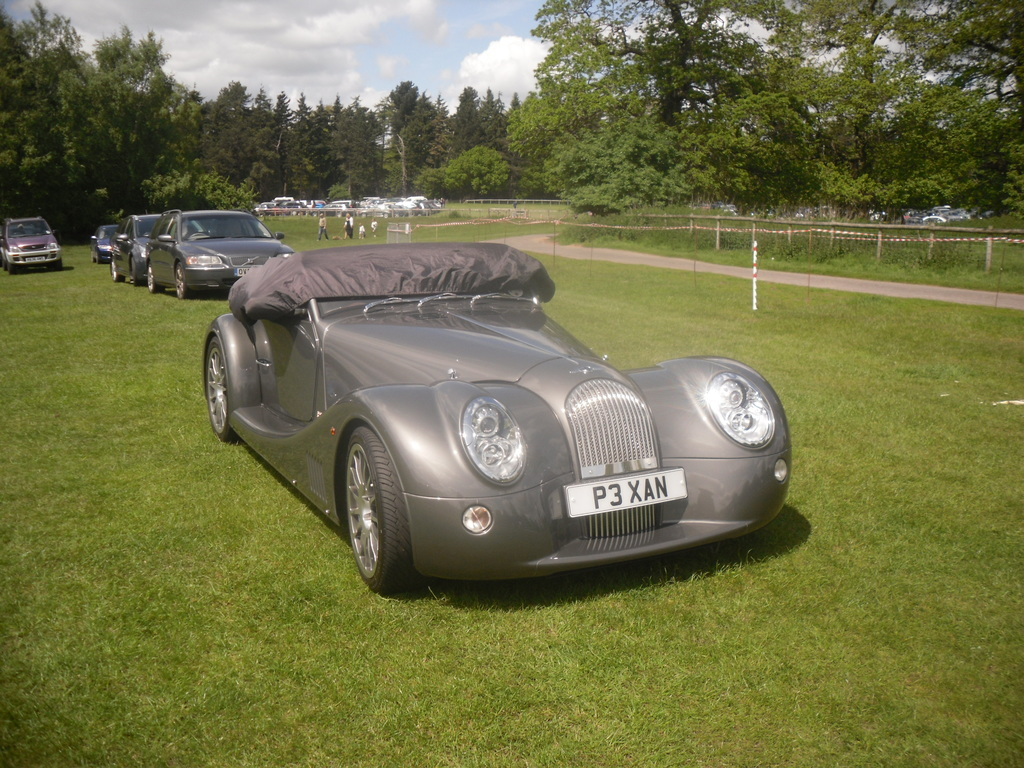Car: (191, 245, 794, 596), (138, 206, 295, 298), (718, 204, 1000, 226), (259, 193, 446, 221), (107, 211, 173, 286), (0, 214, 69, 272), (86, 225, 116, 264)
